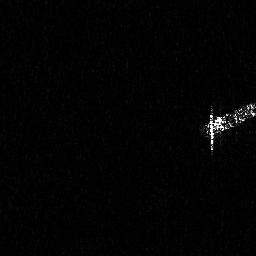ship: (198, 99, 256, 155)
